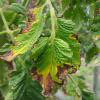Tomato leaf bacterial spot: (30, 34, 74, 96), (2, 3, 46, 63), (52, 17, 85, 75)
